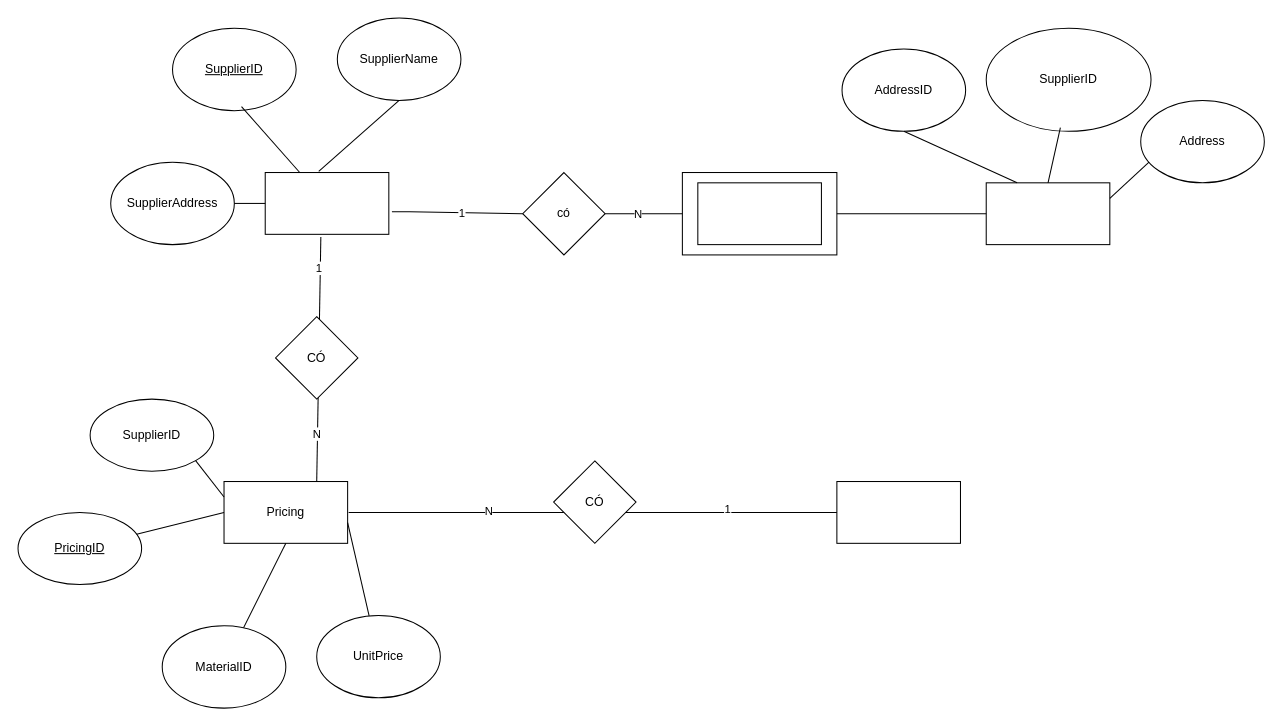
Image size: 1282x726. Some labels were removed from this diagram. Each missing label, with the centre of its shape:
"DeliveryAddresses" belongs at point (1047, 213).
"MATERIAL" belongs at point (898, 511).
"PURCAHSE" belongs at point (759, 213).
"Suppliers" belongs at point (326, 202).
